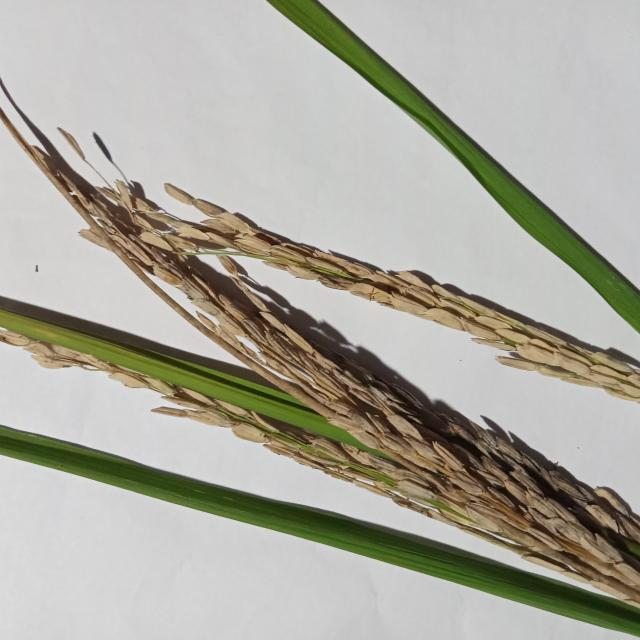Neck_Blast: (0, 110, 638, 603), (147, 202, 640, 402)
